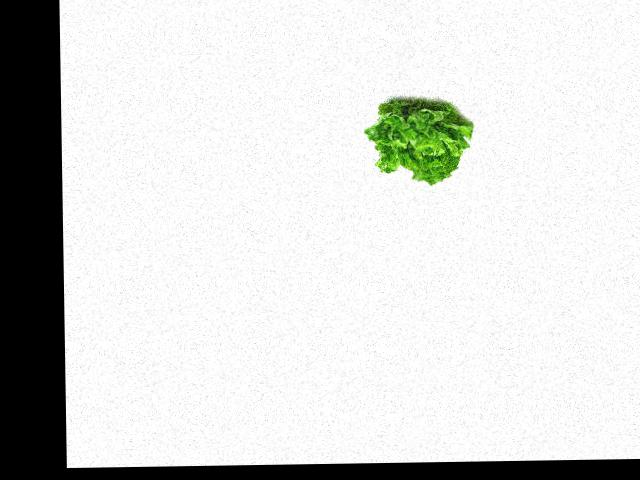lettuce: (365, 95, 472, 185)
